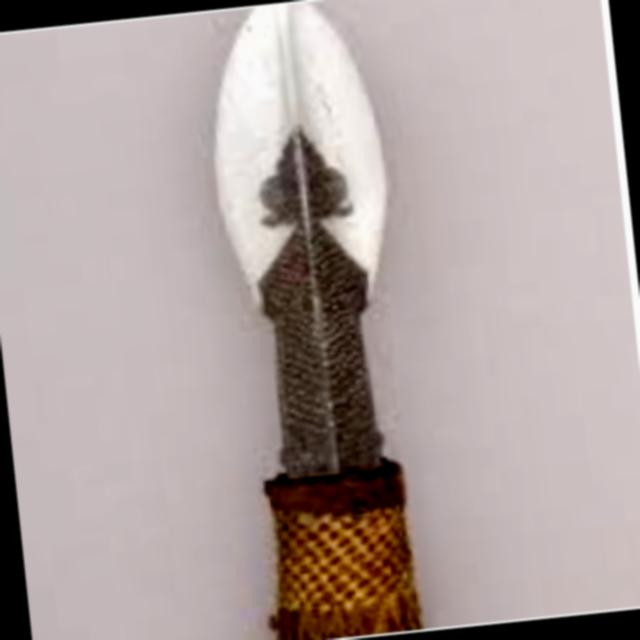spear: (173, 0, 463, 640)
